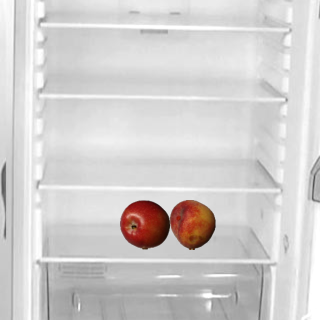Apple Braeburn: (119, 199, 169, 249)
Peach: (167, 199, 217, 249)
